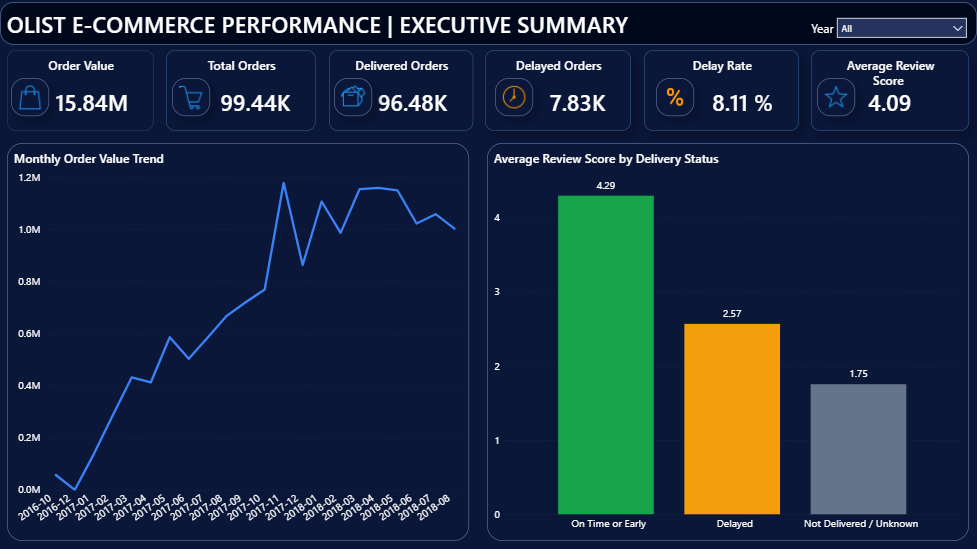

The page's visual inventory and layout, read from the dashboard file:
{"tool":"powerbi","page":{"name":"Executive Summary","canvas":[1280,720],"ordinal":0},"visuals":[{"type":"cardVisual","title":"Total Orders","fields":{"Data":["analytics fact_orders.Total Orders Card"]},"box":[219.1,66.8,196.4,106],"z":0},{"type":"cardVisual","title":"Delivered Orders","fields":{"Data":["analytics fact_orders.Delivered Orders Card"]},"box":[431.7,66.8,188.5,106],"z":1000},{"type":"cardVisual","title":"Delayed Orders","fields":{"Data":["analytics dim_date.Delayed Orders Display"]},"box":[636.5,66.8,191.1,106],"z":2000},{"type":"cardVisual","title":"Delay Rate ","fields":{"Data":["analytics fact_orders.delay rate %"]},"box":[843.8,66.8,202.9,106],"z":3000},{"type":"cardVisual","fields":{"Data":["analytics fact_orders.average review score"]},"box":[1063,66.8,206.8,106],"z":4000},{"type":"clusteredColumnChart","title":"Average Review Score by Delivery Status","fields":{"Category":["analytics fact_orders.delivery_status_group"],"Y":["analytics fact_orders.average review score"]},"box":[638.8,188.5,631,521],"z":5000},{"type":"lineChart","title":"Monthly Order Value Trend","fields":{"Category":["analytics dim_date.year_month"],"Y":["analytics fact_orders.total sales"]},"box":[10.5,188.5,604.8,521],"z":6000},{"type":"image","box":[226.8,103,50,50],"z":7000},{"type":"image","box":[860.2,103,50,50],"z":8000},{"type":"image","box":[1071.4,103,50,50],"z":9000},{"type":"textbox","title":"Score","box":[1136.7,87.5,59.2,31.7],"z":10000},{"type":"image","box":[438,103,50,50],"z":11000},{"type":"image","box":[649.1,103,50,50],"z":12000},{"type":"shape","title":"OLIST E-COMMERCE PERFORMANCE | EXECUTIVE SUMMARY","box":[1.3,4.3,1278.7,56.2],"z":13000},{"type":"slicer","fields":{"Values":["analytics dim_date.year_number"]},"box":[1083.6,11.8,196.4,53.7],"z":14000},{"type":"textbox","box":[1033.9,20.2,87.8,49],"z":15000},{"type":"cardVisual","title":"Order Value","fields":{"Data":["analytics fact_orders.total sales"]},"box":[10.5,66.8,192.4,106],"z":16000},{"type":"image","box":[15.7,103,50,50],"z":17000}]}

Visuals, with their boxes in screenshot pixels (x1, y1, x2, y2), scaled from the page's 1280x720 canvas onto the 977x549 screenshot:
"Total Orders" cardVisual: pyautogui.locateOnScreen(167, 51, 317, 132)
"Delivered Orders" cardVisual: pyautogui.locateOnScreen(330, 51, 473, 132)
"Delayed Orders" cardVisual: pyautogui.locateOnScreen(486, 51, 632, 132)
"Delay Rate " cardVisual: pyautogui.locateOnScreen(644, 51, 799, 132)
cardVisual - analytics fact_orders.average review score: pyautogui.locateOnScreen(811, 51, 969, 132)
"Average Review Score by Delivery Status" clusteredColumnChart: pyautogui.locateOnScreen(488, 144, 969, 541)
"Monthly Order Value Trend" lineChart: pyautogui.locateOnScreen(8, 144, 470, 541)
image: pyautogui.locateOnScreen(173, 79, 211, 117)
image: pyautogui.locateOnScreen(657, 79, 695, 117)
image: pyautogui.locateOnScreen(818, 79, 856, 117)
"Score" textbox: pyautogui.locateOnScreen(868, 67, 913, 91)
image: pyautogui.locateOnScreen(334, 79, 372, 117)
image: pyautogui.locateOnScreen(495, 79, 534, 117)
"OLIST E-COMMERCE PERFORMANCE | EXECUTIVE SUMMARY" shape: pyautogui.locateOnScreen(1, 3, 976, 46)
slicer - analytics dim_date.year_number: pyautogui.locateOnScreen(827, 9, 976, 50)
textbox: pyautogui.locateOnScreen(789, 15, 856, 53)
"Order Value" cardVisual: pyautogui.locateOnScreen(8, 51, 155, 132)
image: pyautogui.locateOnScreen(12, 79, 50, 117)
